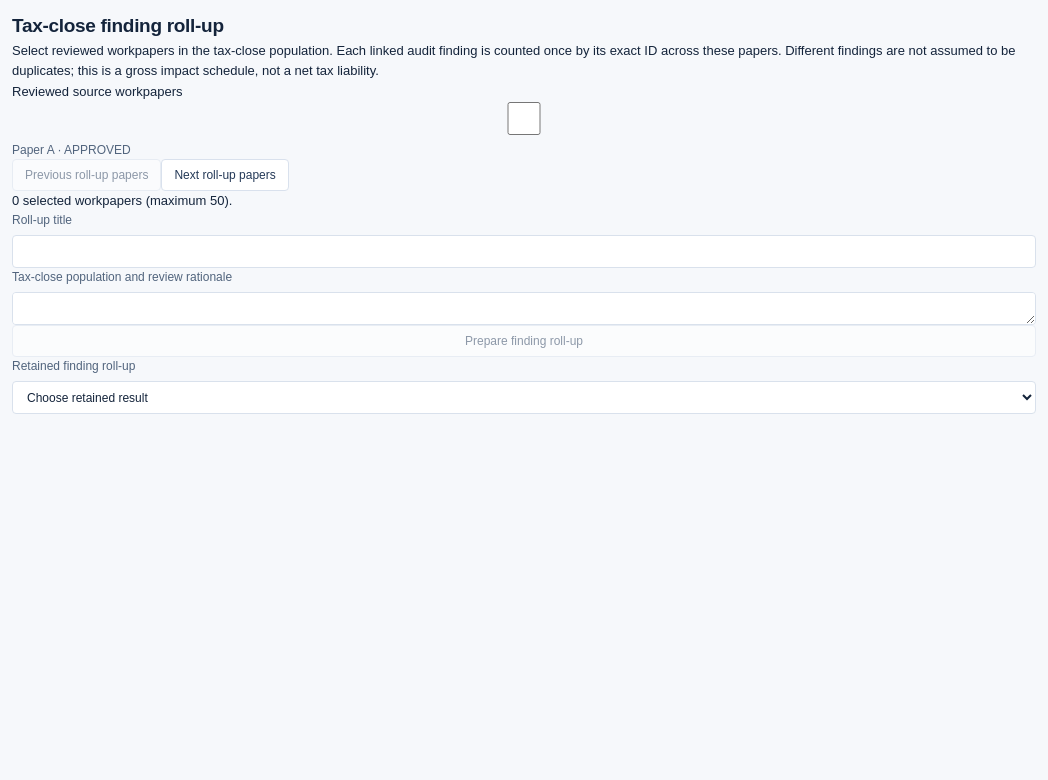
Test case: tax-close exposure source population › does not enable independent approval for an incomplete result
Click the checkbox labelled "Paper A · APPROVED" at (524, 118), box [12,102,1036,135]
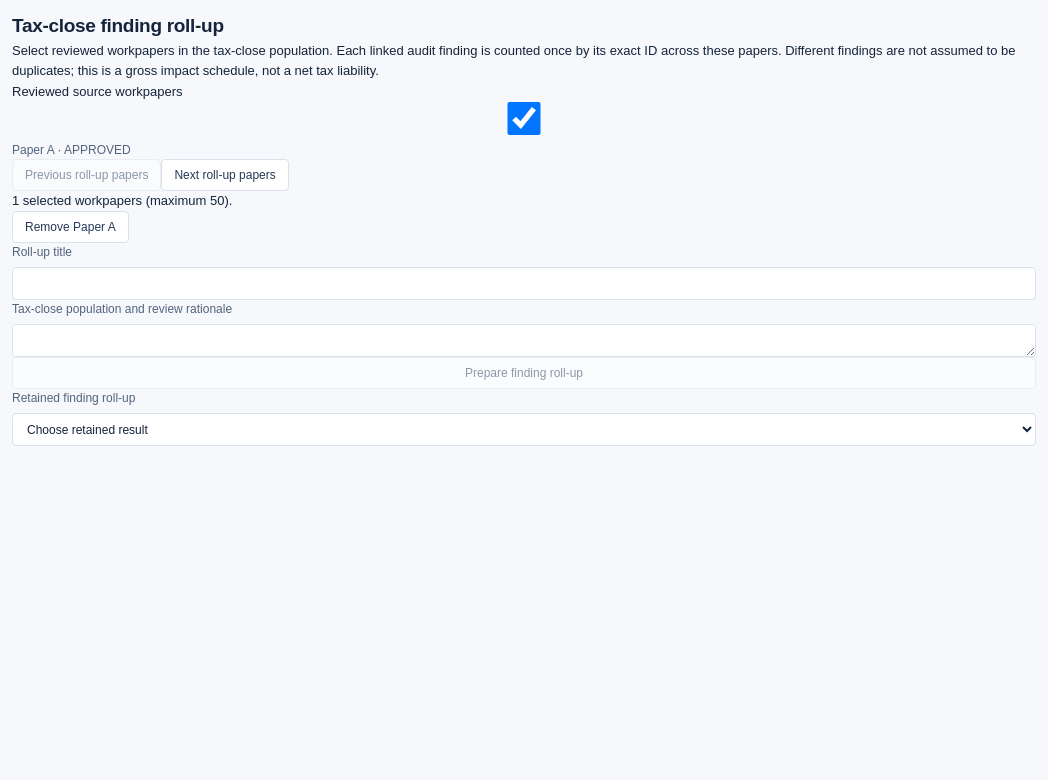
Click the button "Next roll-up papers" at (225, 175), box [161,159,289,191]
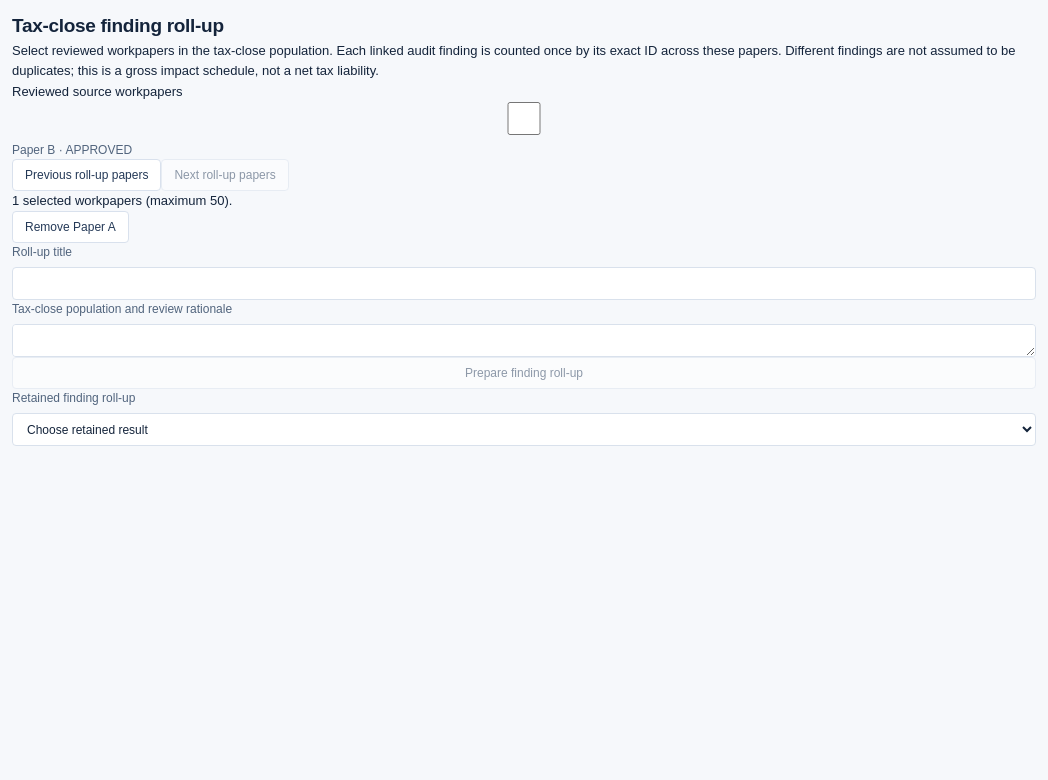
Click the checkbox labelled "Paper B · APPROVED" at (524, 118), box [12,102,1036,135]
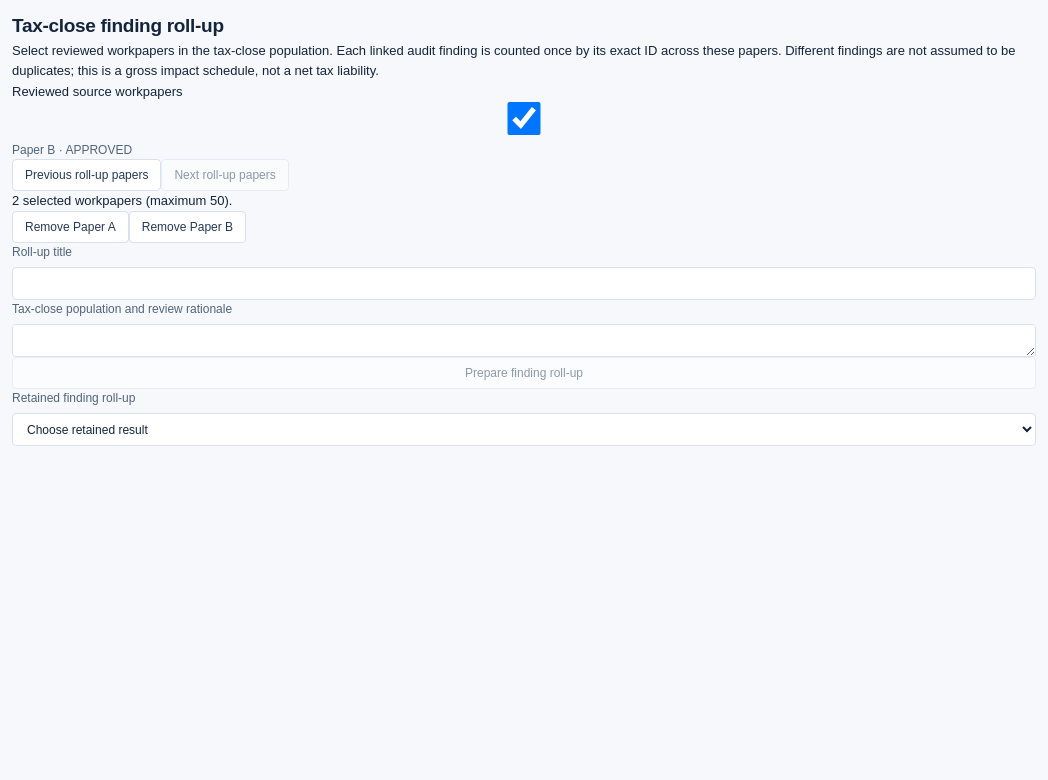
Type "Tax close" into the field labelled "Roll-up title" at (524, 284), box [12,267,1036,300]
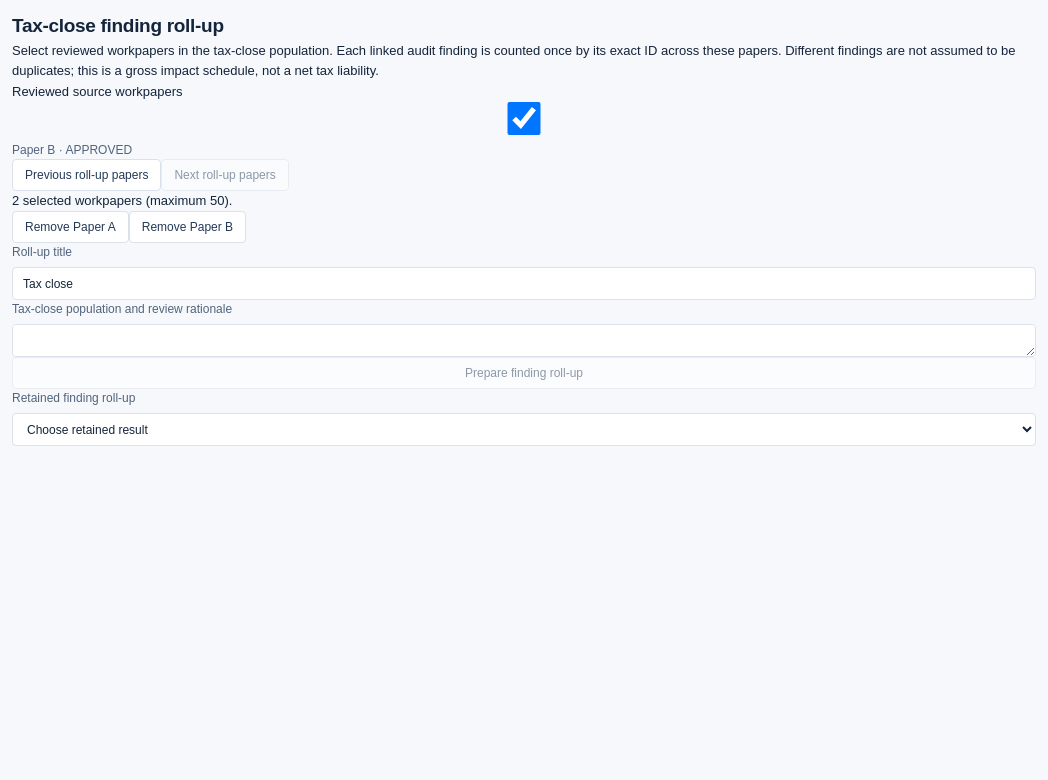
Type "Reviewed source population rationale" into the text box labelled "Tax-close population and review rationale" at (524, 341), box [12,324,1036,357]
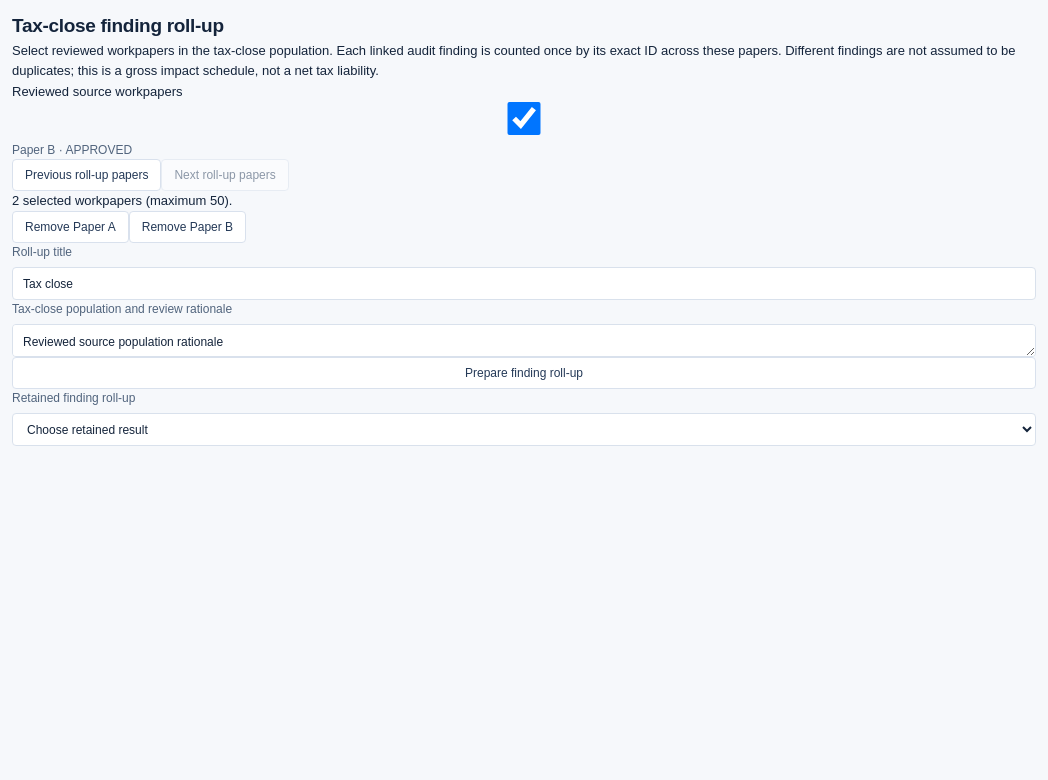
Click the button "Prepare finding roll-up" at (524, 373), box [12,357,1036,389]
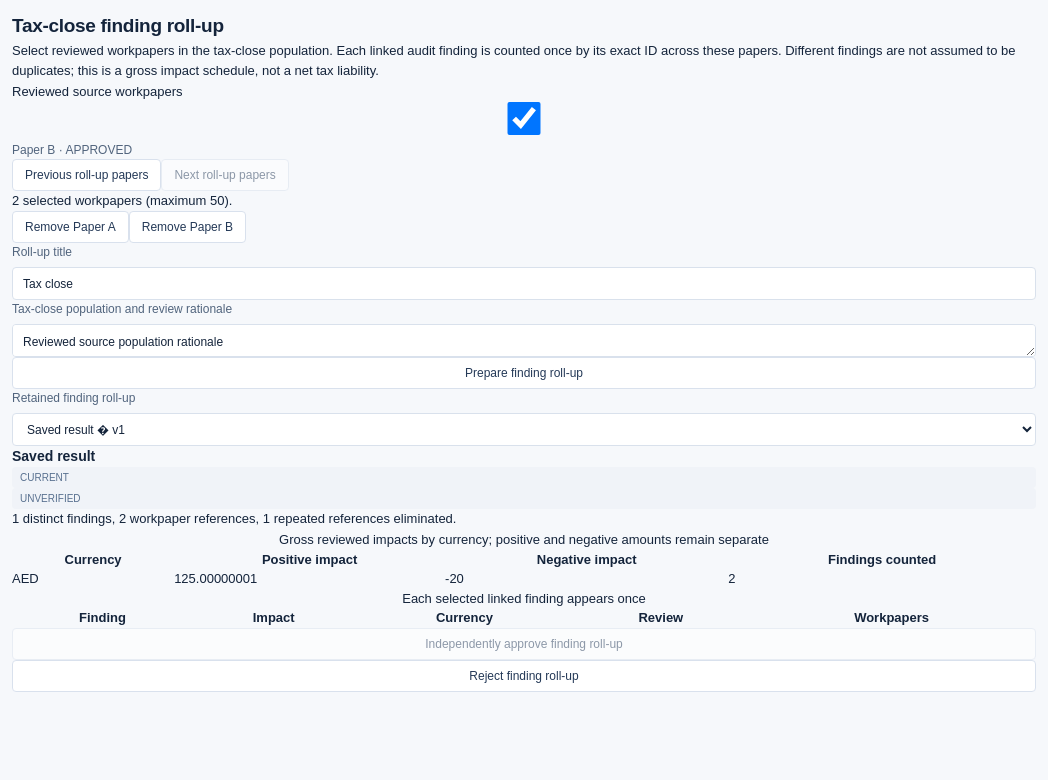
Now the button "Independently approve finding roll-up" is disabled, box [12,628,1036,660]
